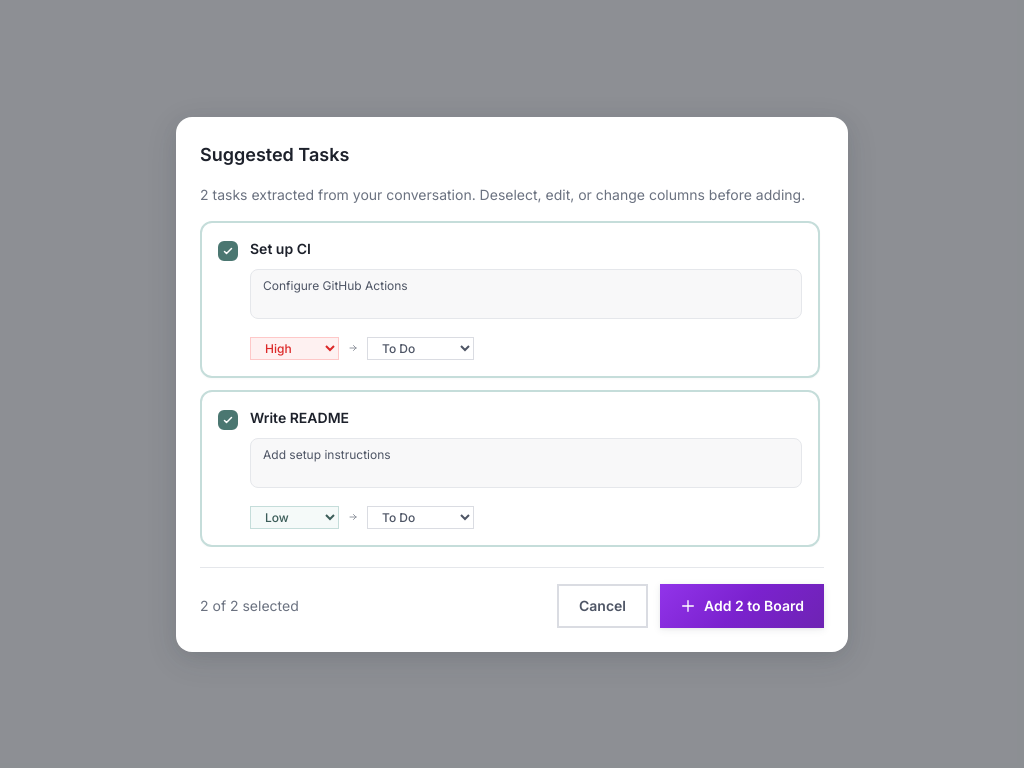
it: AITaskModal › shows loading state on Add to Board button
Click the button "Add 2 to Board" at x=742, y=606, box x1=660 y1=584 x2=824 y2=628
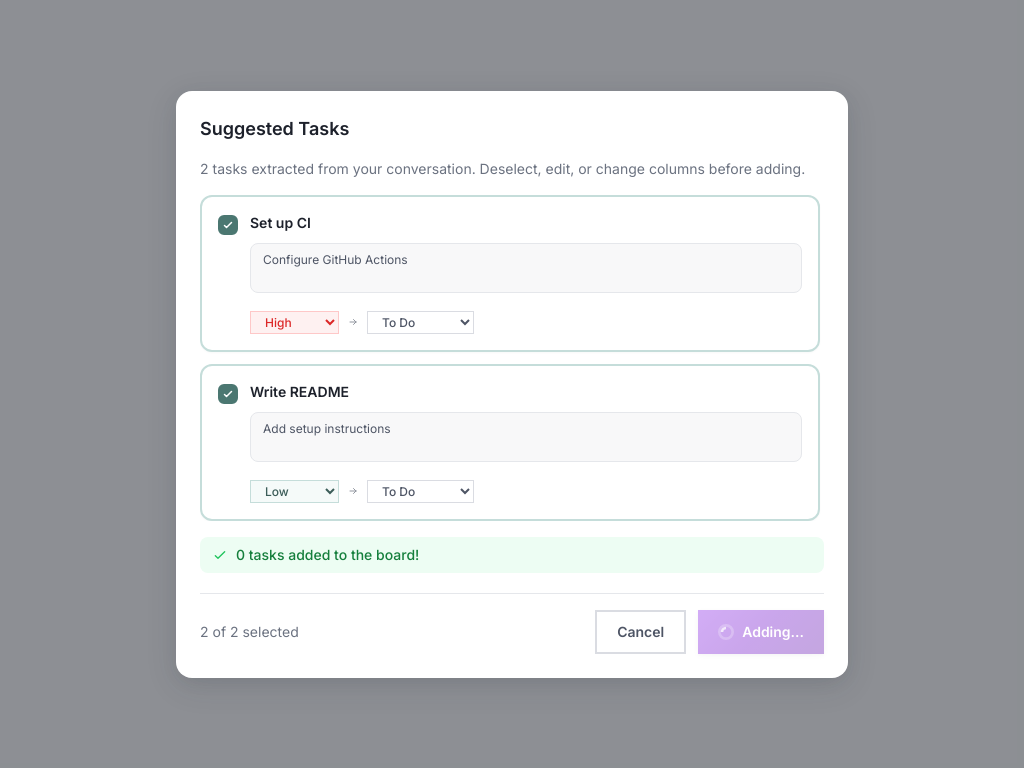
Now the button "Adding..." is shown, box x1=698 y1=610 x2=824 y2=654
